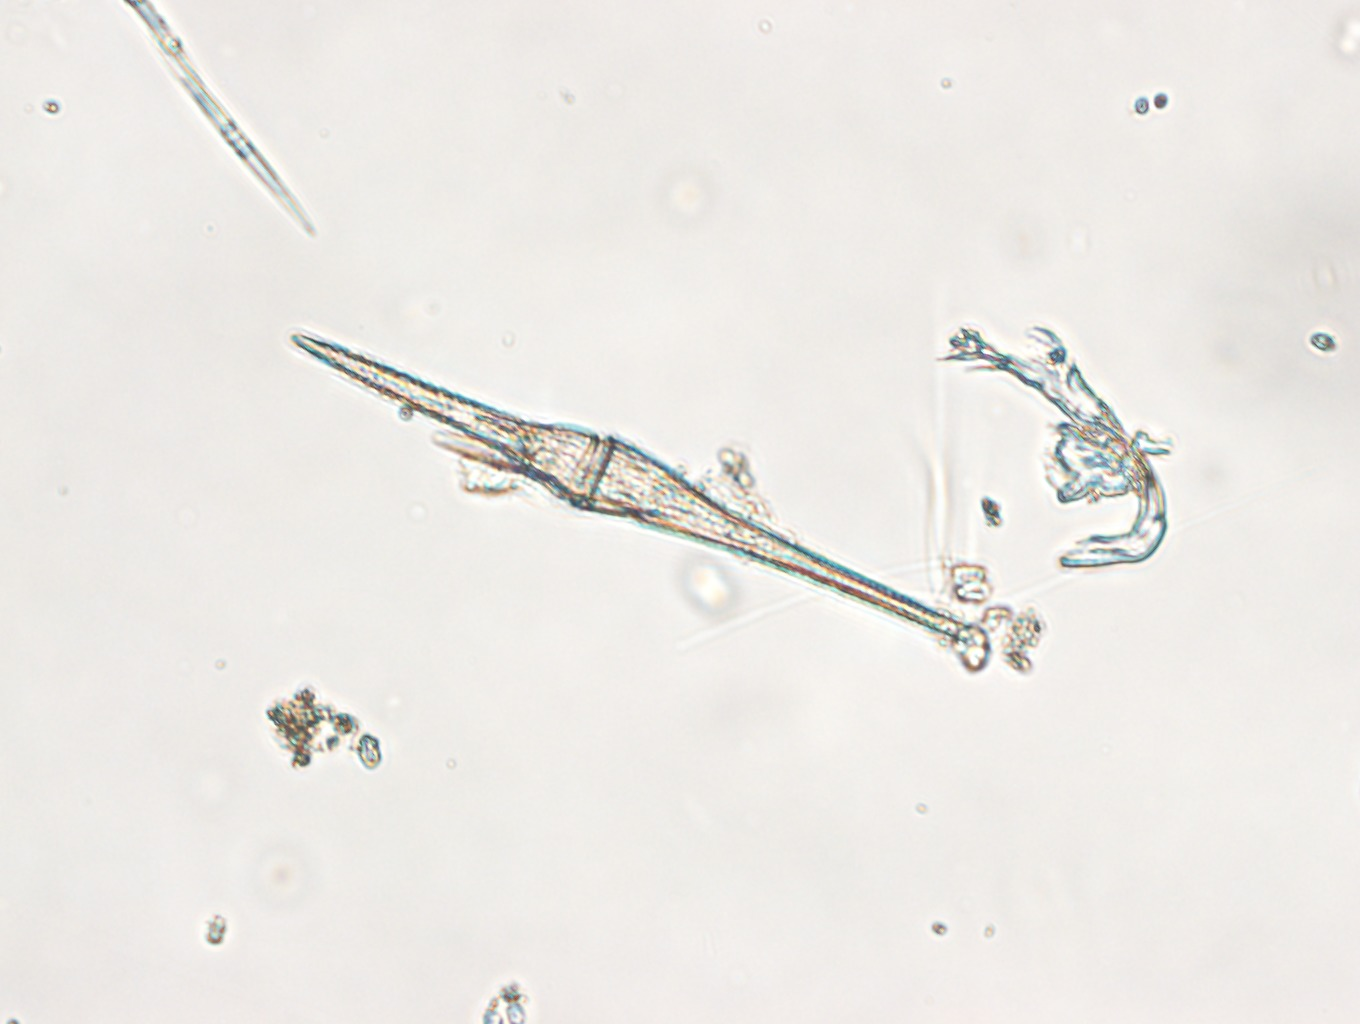ceratium furca: (286, 324, 988, 652)
